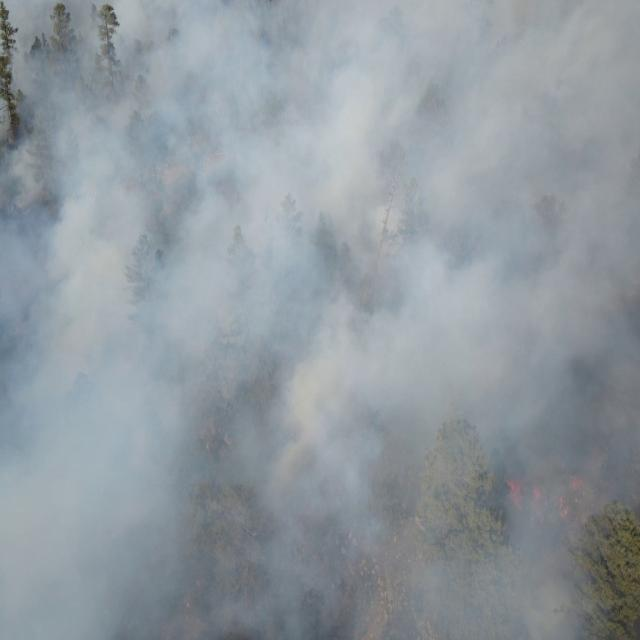fire: (556, 472, 582, 518), (503, 475, 521, 511), (530, 478, 544, 504)
smoke: (0, 0, 601, 640), (600, 0, 640, 565)
